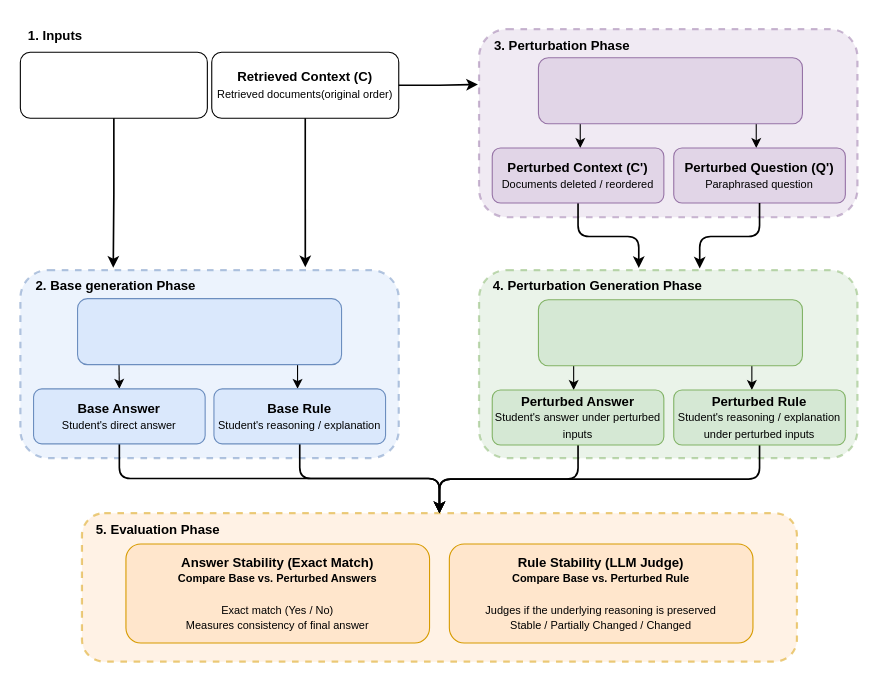
The diagram is 877 pixels wide and 681 high, and some of its shapes have lost their labels. The centre of each missing label's shape, as x and y in pixels:
"Original Question (Q) Natural Language Question" belongs at point 113,84.
"Perturbation Engine (P) Applies controlled transformations" belongs at point 669,90.
"Student LLM (gpt-4o-mini) Generates answer and rule from original inputs" belongs at point 209,331.
"Student LLM (gpt-4o-mini) Generates answer and rule from perturbed inputs" belongs at point 669,332.
